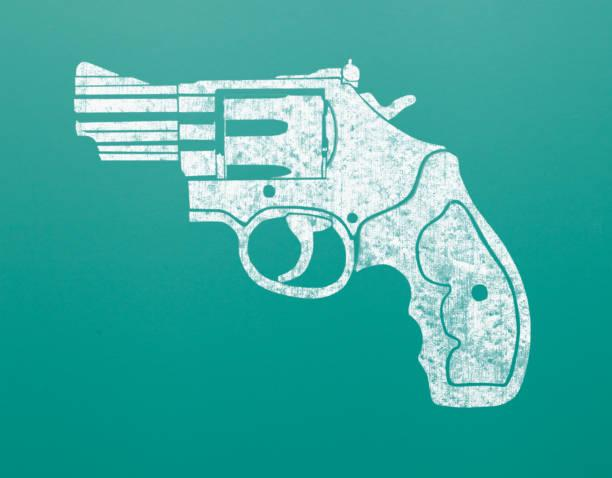weapon: (68, 53, 539, 411)
